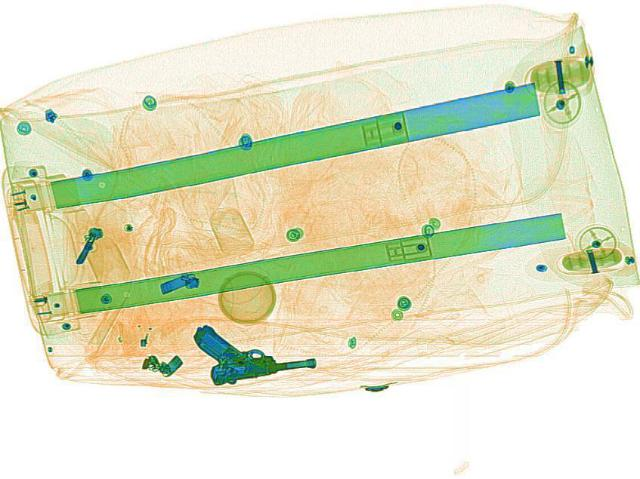Gun: (187, 311, 316, 384)
